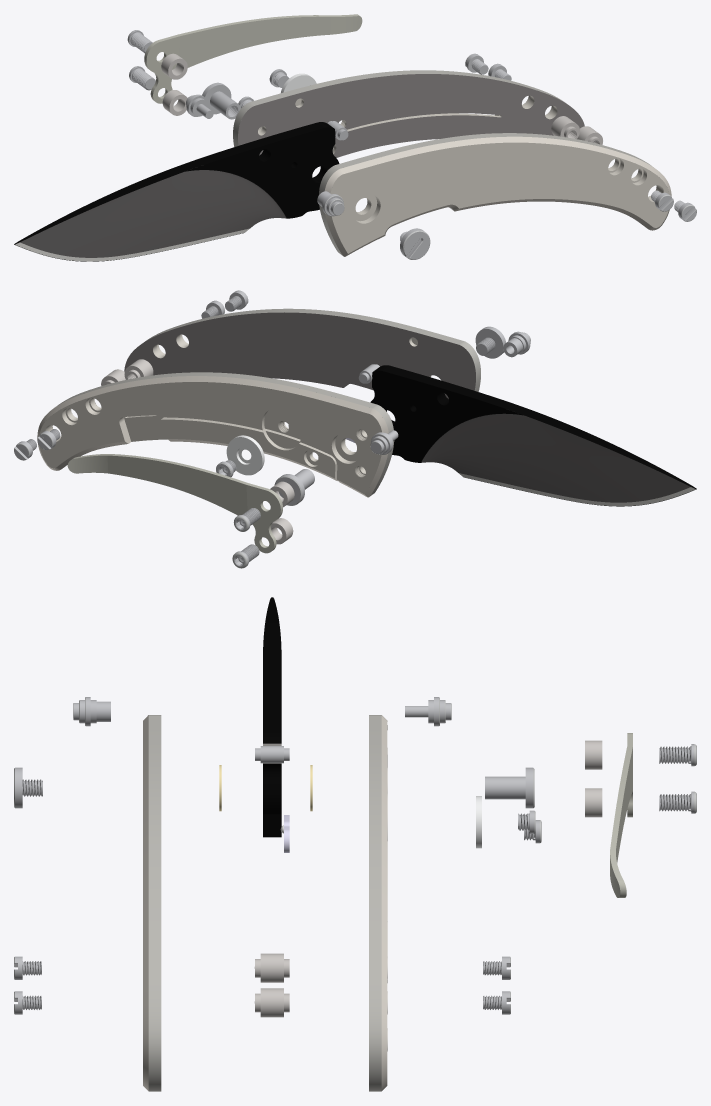
3 renders of one model, top to bottom at view 1: azimuth 30°, elevation 25°; view 2: azimuth 150°, elevation 25°; view 3: azimuth 270°, elevation 25°, orthographic. The views are drawn at different scales.
Parts seen in each view (by area): view 1: 着色完整款2 (×20); view 2: 着色完整款2 (×16); view 3: 着色完整款2 (×11).
Boxes of the visible parts, left/top/right/bottom form: 着色完整款2 (×20): left=14, top=14, right=671, bottom=261; 着色完整款2 (×16): left=37, top=308, right=696, bottom=553; 着色完整款2 (×11): left=74, top=597, right=632, bottom=1091.
Size of the model in its own units: 0.1552 by 0.0341 by 0.1175.
